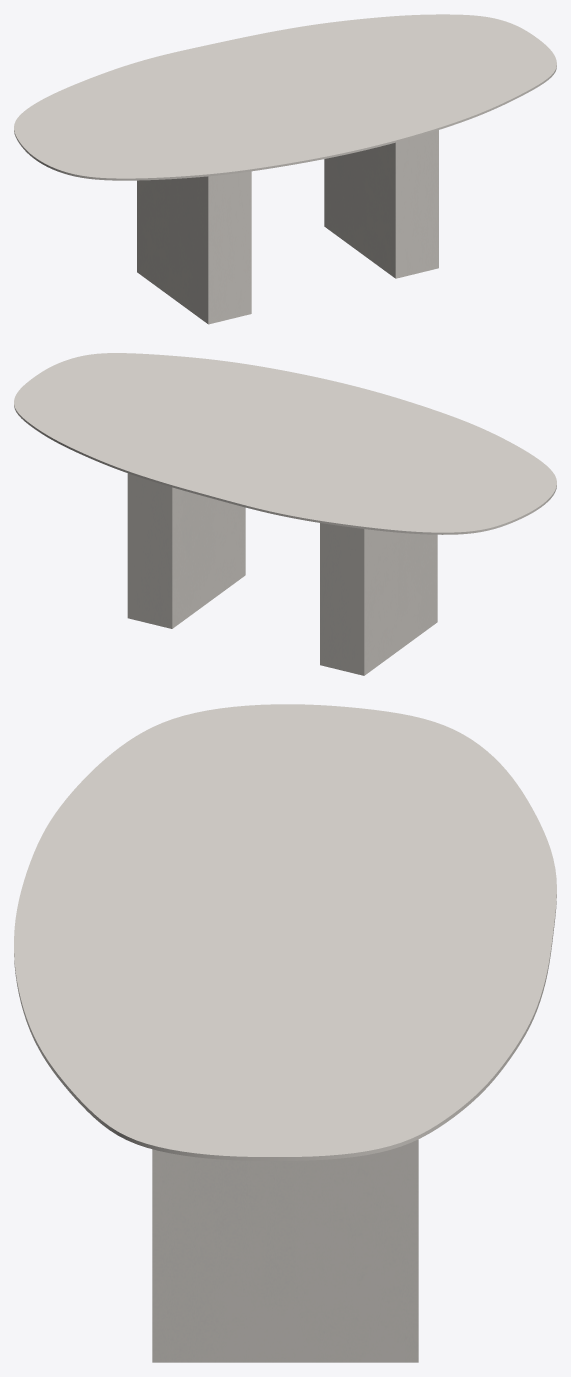
Rendered from pearlwhite_danish_facet_ridge.glb.
The picture shows the model from 3 angles, top to bottom: view 1: azimuth 30°, elevation 25°; view 2: azimuth 150°, elevation 25°; view 3: azimuth 270°, elevation 25°; orthographic projection. The views are drawn at different scales.
Visible parts, largest first — view 1: facet_danish, ridge; view 2: facet_danish, ridge; view 3: facet_danish, ridge.
Part boxes in pixels (box(x1,y1,x2,y2)): facet_danish: box(14, 14, 556, 180); ridge: box(137, 130, 438, 324); facet_danish: box(14, 353, 556, 534); ridge: box(127, 473, 437, 675); facet_danish: box(14, 704, 556, 1160); ridge: box(152, 1139, 418, 1362).
Size of the model in its own units: 7.5 by 2.5 by 3.8.
1 material, 1 textured.
